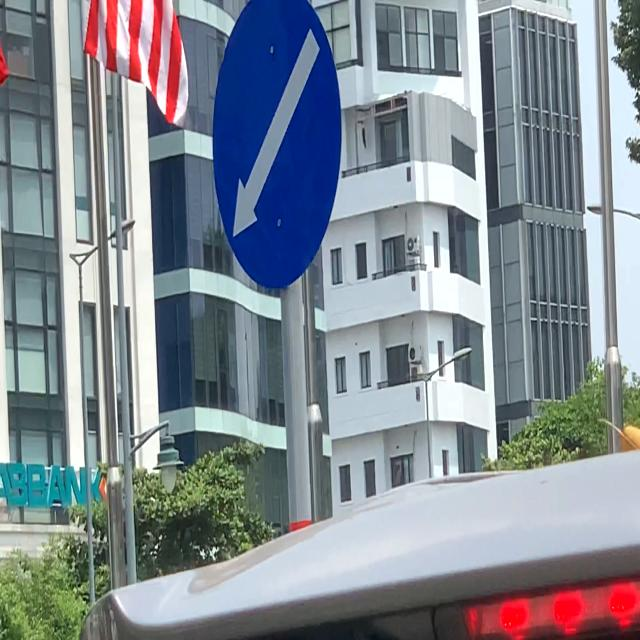R.302b: (205, 0, 348, 292)
